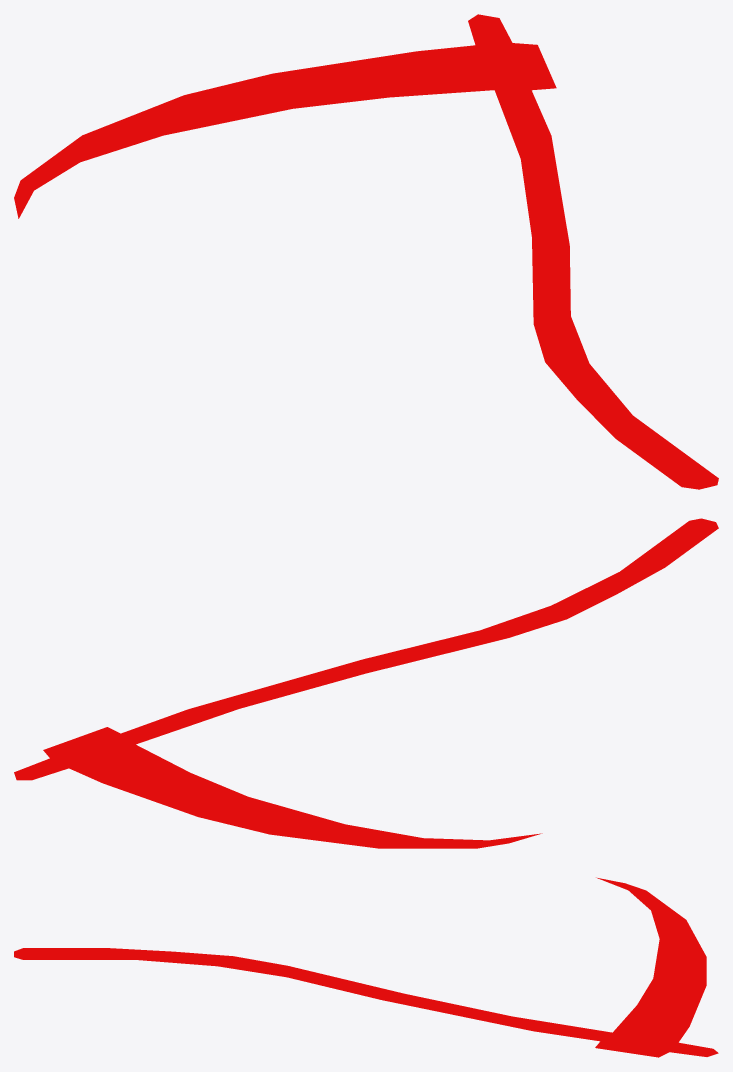
Rendered from Scyth.dae.
3 views of the same model, one above another, from view 1: azimuth 30°, elevation 25°; view 2: azimuth 150°, elevation 25°; view 3: azimuth 270°, elevation 25° (orthographic). The views are drawn at different scales.
Visible parts, largest first — view 1: SketchUp; view 2: SketchUp; view 3: SketchUp.
Boxes of the visible parts, x1=… form: SketchUp: x1=14, y1=14, x2=718, y2=489; SketchUp: x1=14, y1=518, x2=718, y2=848; SketchUp: x1=14, y1=877, x2=718, y2=1057.
Size of the model in its own units: 111 by 184 by 0.
